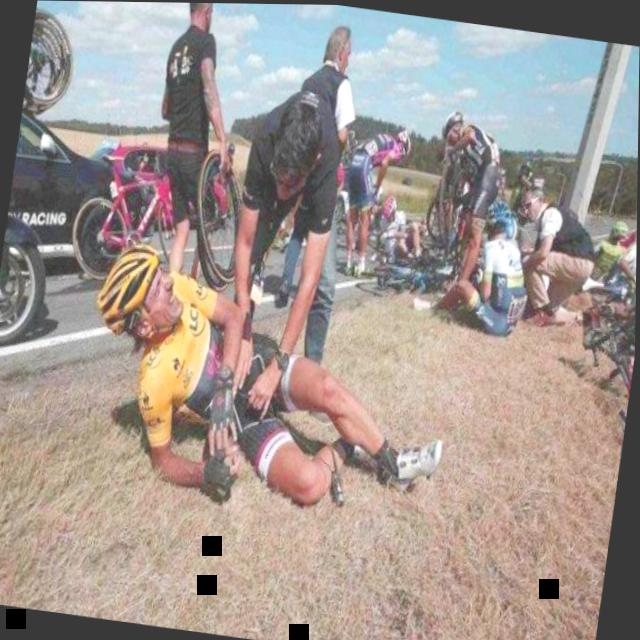Fall-Detected: (58, 224, 486, 534)
